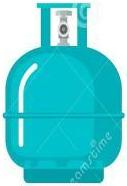cylinder: (1, 1, 127, 186)
